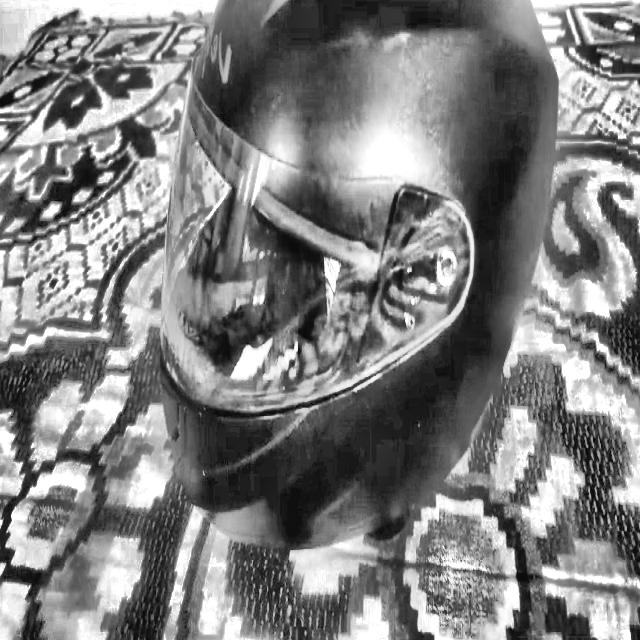Helmet: (159, 0, 560, 555)
